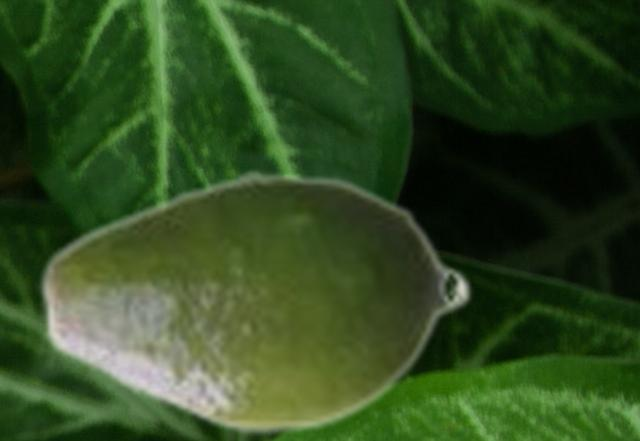avocado: (35, 166, 474, 438)
